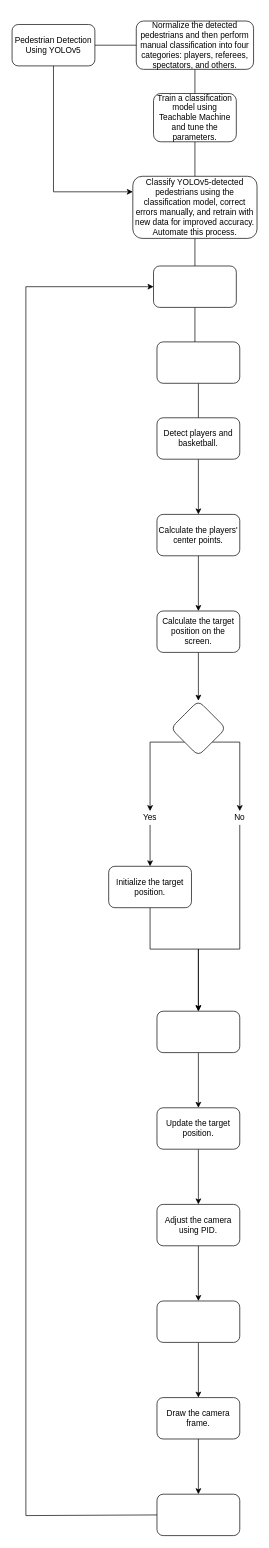
This 269x1548 diagram has some shape labels left out. The centre of each missing label's shape, as x and y in pixels:
"Check if it is the first frame." belongs at pixel 198 728.
"Implement the project using the trained model." belongs at pixel 194 286.
"Limit the camera range." belongs at pixel 198 1321.
"Read video frames." belongs at pixel 198 362.
"Smooth the target position." belongs at pixel 198 1032.
"Write the frame to the video." belongs at pixel 198 1515.
